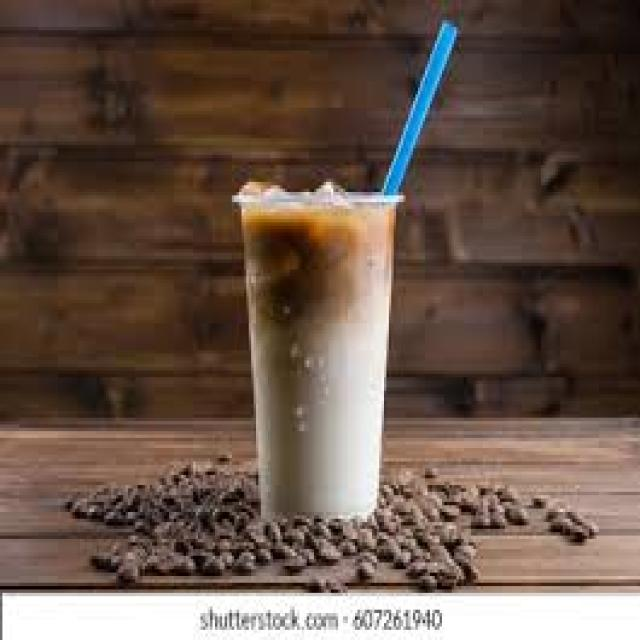bottle: (232, 181, 402, 519)
